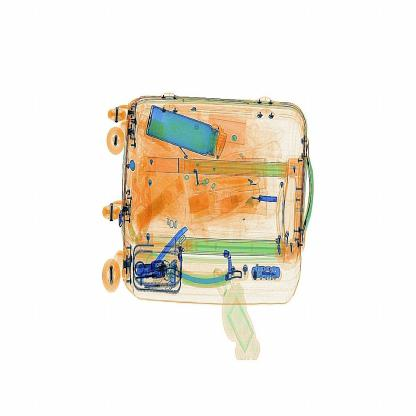pliers: (142, 218, 202, 283)
